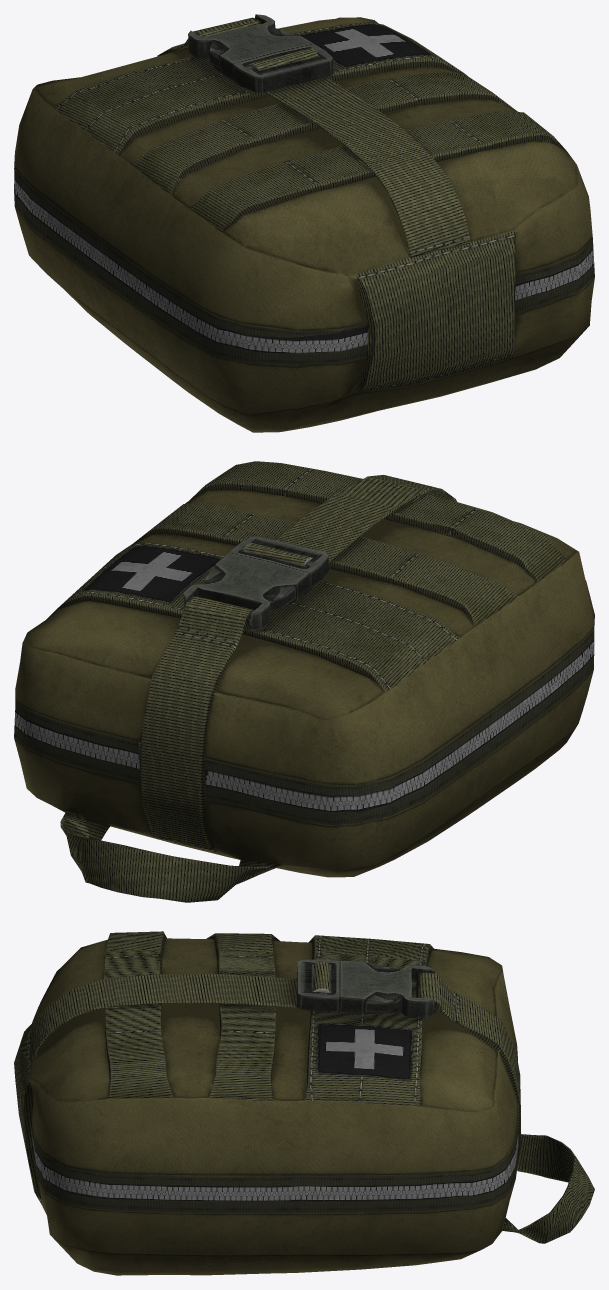
The model's file is BCMM_SutureKit.fbx.
The picture shows the model from 3 angles, top to bottom: view 1: azimuth 30°, elevation 25°; view 2: azimuth 150°, elevation 25°; view 3: azimuth 270°, elevation 25°; orthographic projection. The views are drawn at different scales.
Parts seen in each view (by area): view 1: BCMM_SutureKit; view 2: BCMM_SutureKit; view 3: BCMM_SutureKit.
Part boxes in pixels (x1,y1,x2,y2): BCMM_SutureKit: [14, 14, 594, 432]; BCMM_SutureKit: [14, 461, 594, 902]; BCMM_SutureKit: [14, 931, 594, 1275].
Size of what is drawn, in the model's own units: 8.73 by 5.55 by 12.
